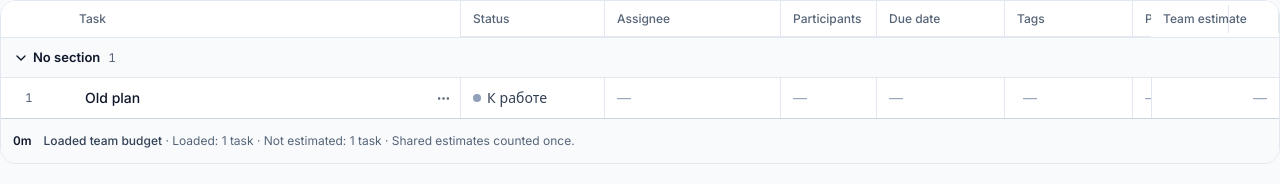
Scenario: Delete task in the row actions › does not offer it to someone who cannot edit
Click the button named "Task actions: Old plan": (443, 98) x1=429 y1=84 x2=457 y2=112
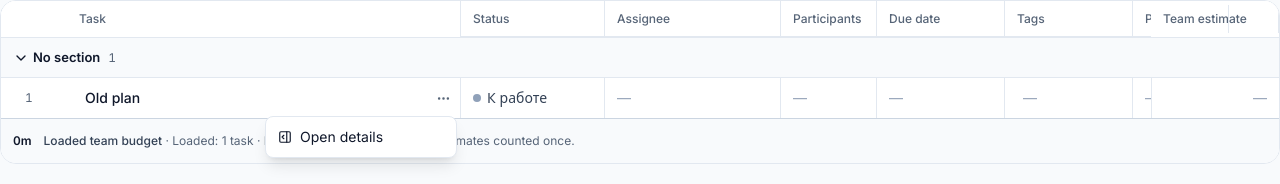
Now the menu is shown, box x1=265 y1=116 x2=457 y2=158
